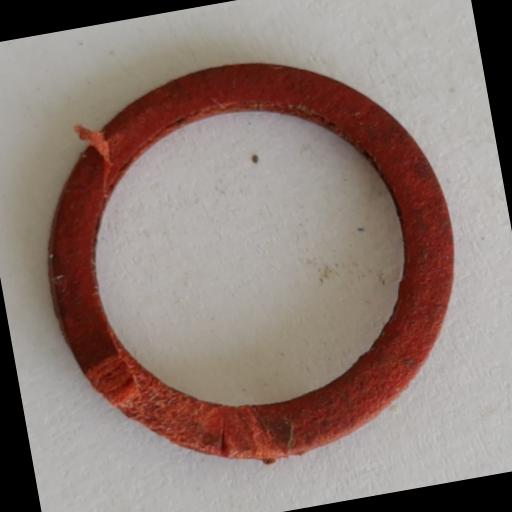defect: (80, 321, 298, 495), (74, 122, 120, 200)
